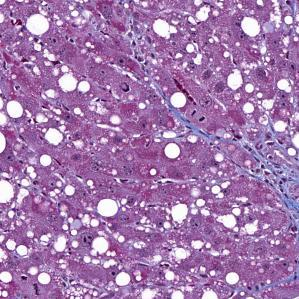fibrosis: (240, 136, 299, 220)
